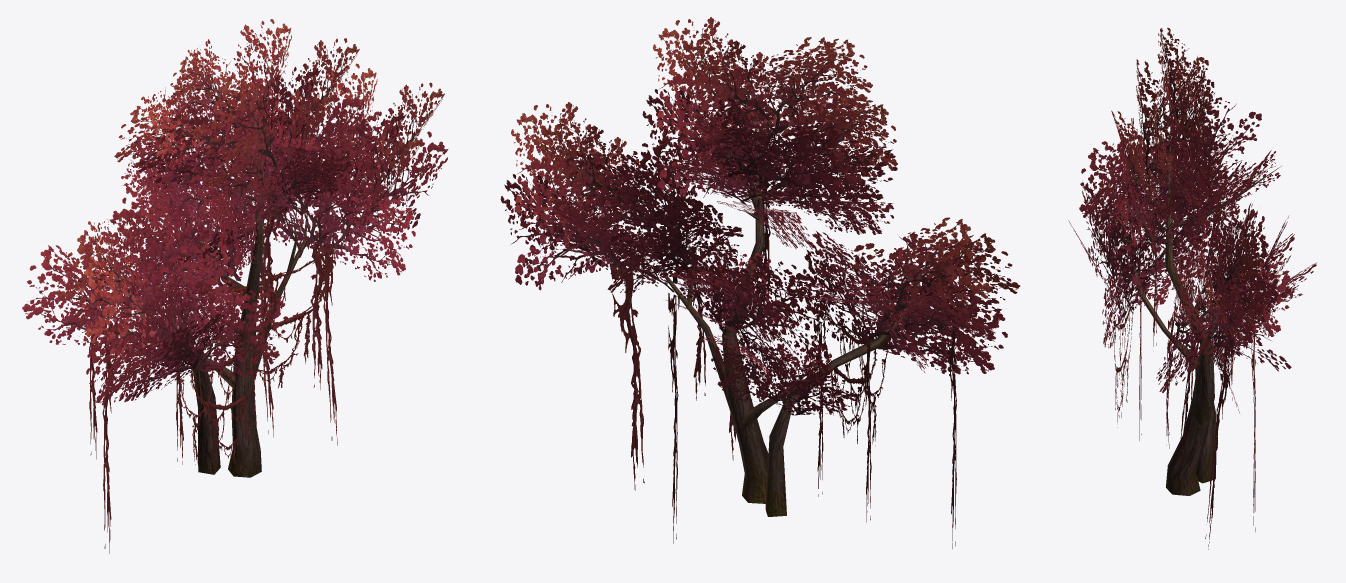
Rendered from yw_huanghunyaosai_dashu02.FBX.
3 renders of one model, left to right at view 1: azimuth 30°, elevation 25°; view 2: azimuth 150°, elevation 25°; view 3: azimuth 270°, elevation 25°, orthographic. The views are drawn at different scales.
Parts seen in each view (by area): view 1: yw_huanghunyaosai_dashu02; view 2: yw_huanghunyaosai_dashu02; view 3: yw_huanghunyaosai_dashu02.
Part boxes in pixels (x1,y1,x2,y2): yw_huanghunyaosai_dashu02: (22,19,448,553); yw_huanghunyaosai_dashu02: (500,17,1020,548); yw_huanghunyaosai_dashu02: (1068,27,1316,549).
Bounding box in the file's own units: 816 × 812 × 418.
